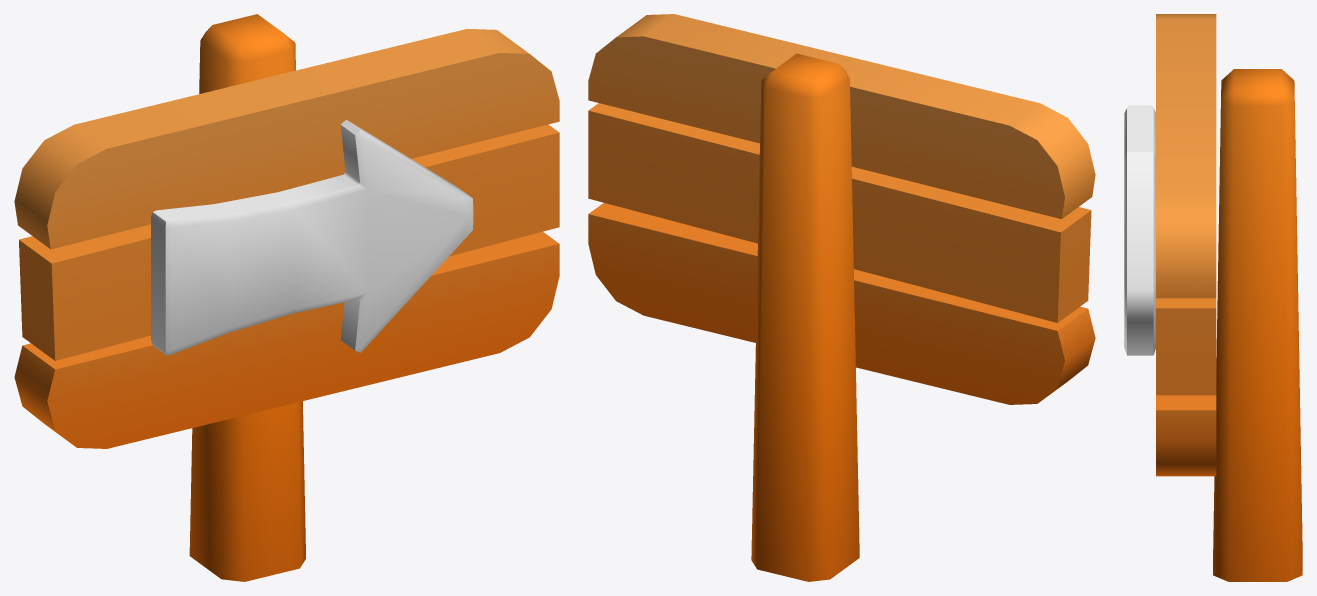
File: Prop_Wooden_Sign_01.fbx
3 views of the same model, side by side, from view 1: azimuth 30°, elevation 25°; view 2: azimuth 150°, elevation 25°; view 3: azimuth 270°, elevation 25° (orthographic). The views are drawn at different scales.
Visible parts, largest first — view 1: Prop_Wooden_Sign_01; view 2: Prop_Wooden_Sign_01; view 3: Prop_Wooden_Sign_01.
Part boxes in pixels (left/top/right/bottom): Prop_Wooden_Sign_01: left=14, top=14, right=559, bottom=581; Prop_Wooden_Sign_01: left=588, top=14, right=1095, bottom=581; Prop_Wooden_Sign_01: left=1124, top=14, right=1302, bottom=581.
Bounding box in the file's own units: 90.11 × 88.8 × 29.65.
